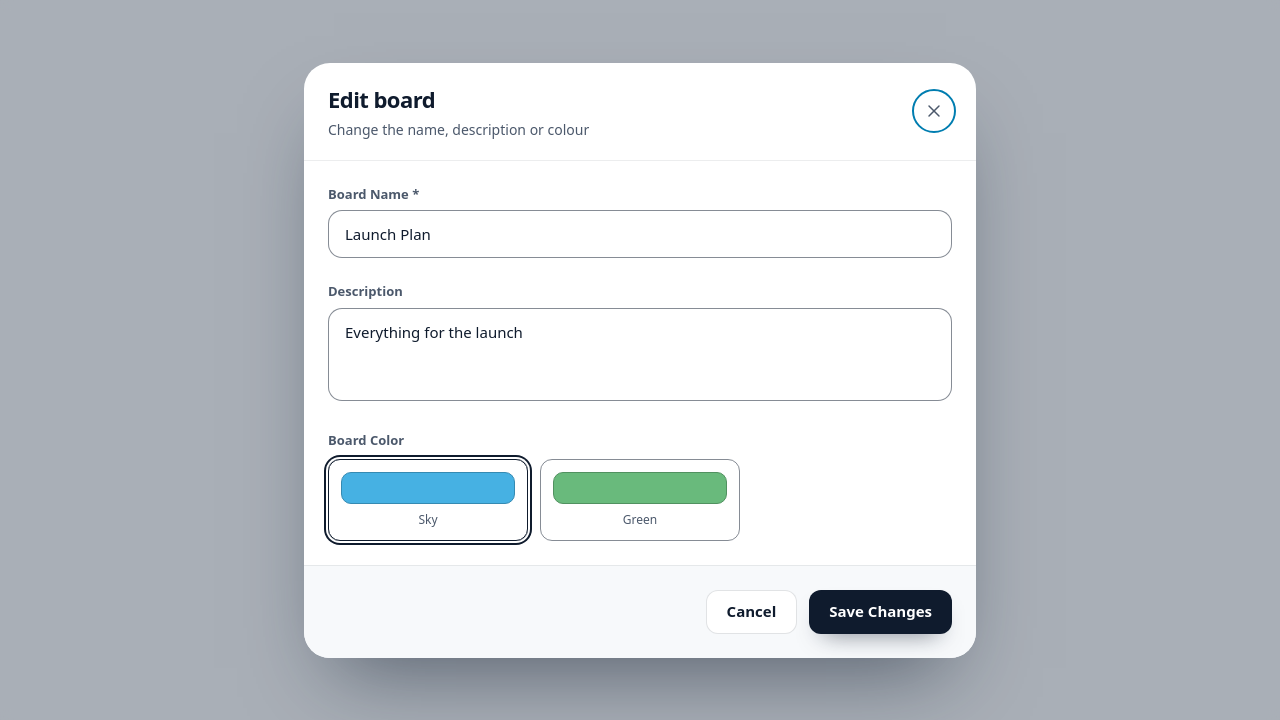
Test case: EditBoardModal › refuses an empty name and says why
Clear the field labelled "Board Name *". click: (640, 234)
box: top-left (328, 210), bottom-right (952, 258)
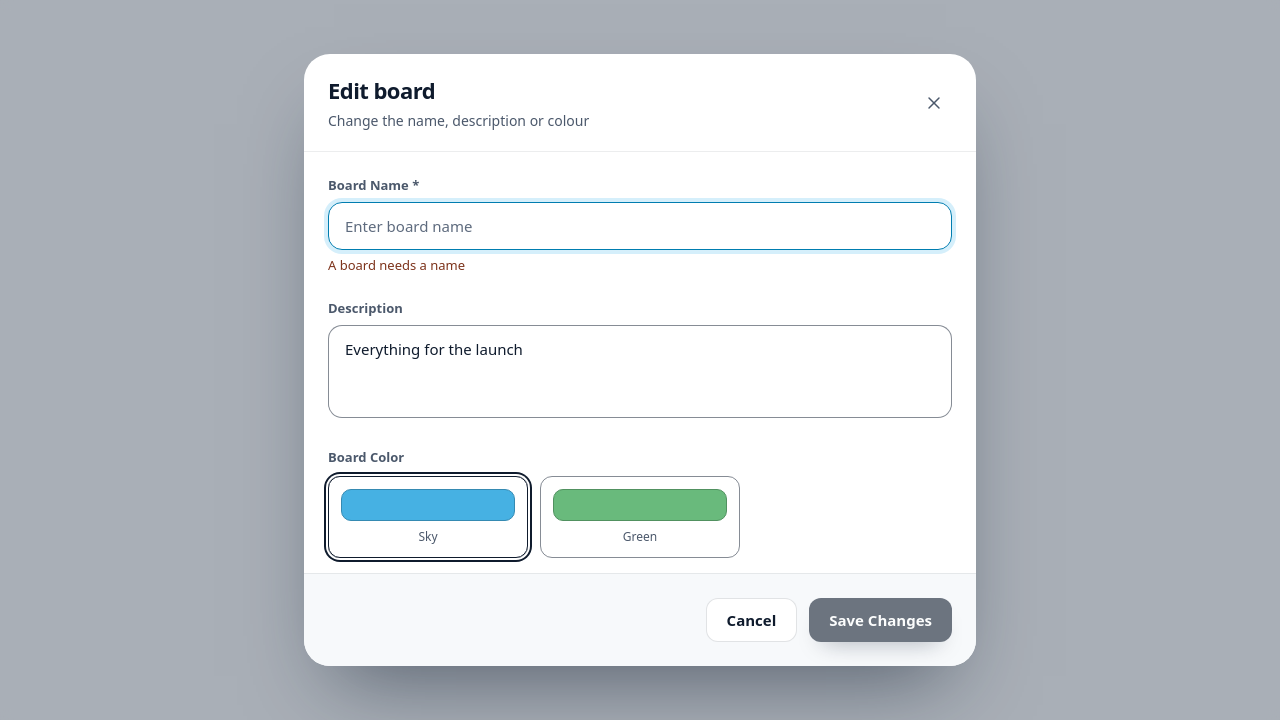
Check: the text "A board needs a name" is shown, box top-left (328, 256), bottom-right (465, 274)
Check: the button "Save Changes" is disabled, box top-left (809, 598), bottom-right (952, 642)
